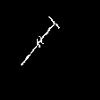treble_crochet: (21, 17, 59, 64)
